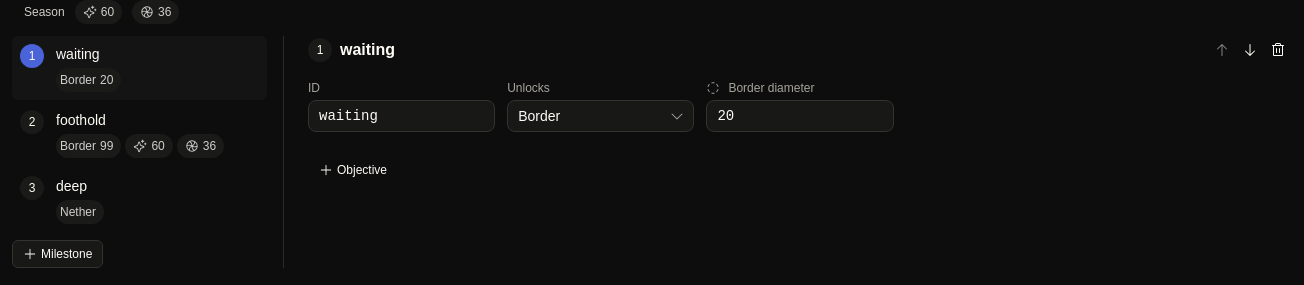
Test: MilestonesEditor › lists every milestone with its settings as marks, beside the one that is open
Expected: the text "99" is shown, [100, 138, 113, 154]
Click the button "2 foothold Border 99 60 36". click: click(140, 134)
box: [12, 102, 267, 166]
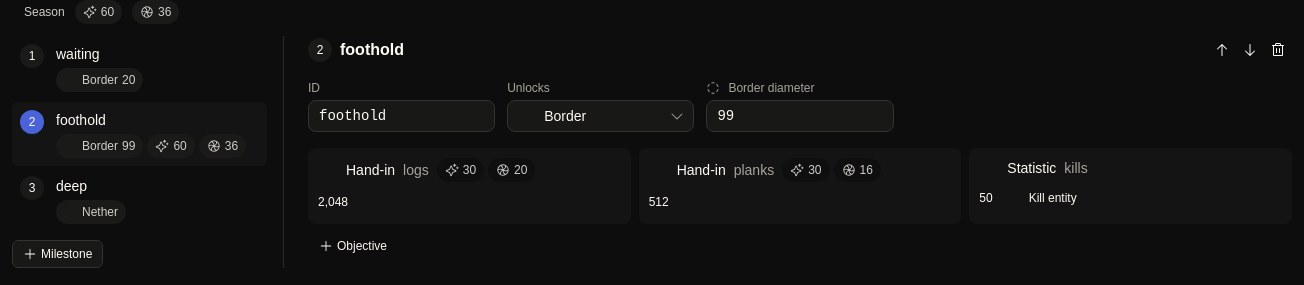
Now the field labelled "Border diameter" holds "99", box [706, 100, 894, 132]
